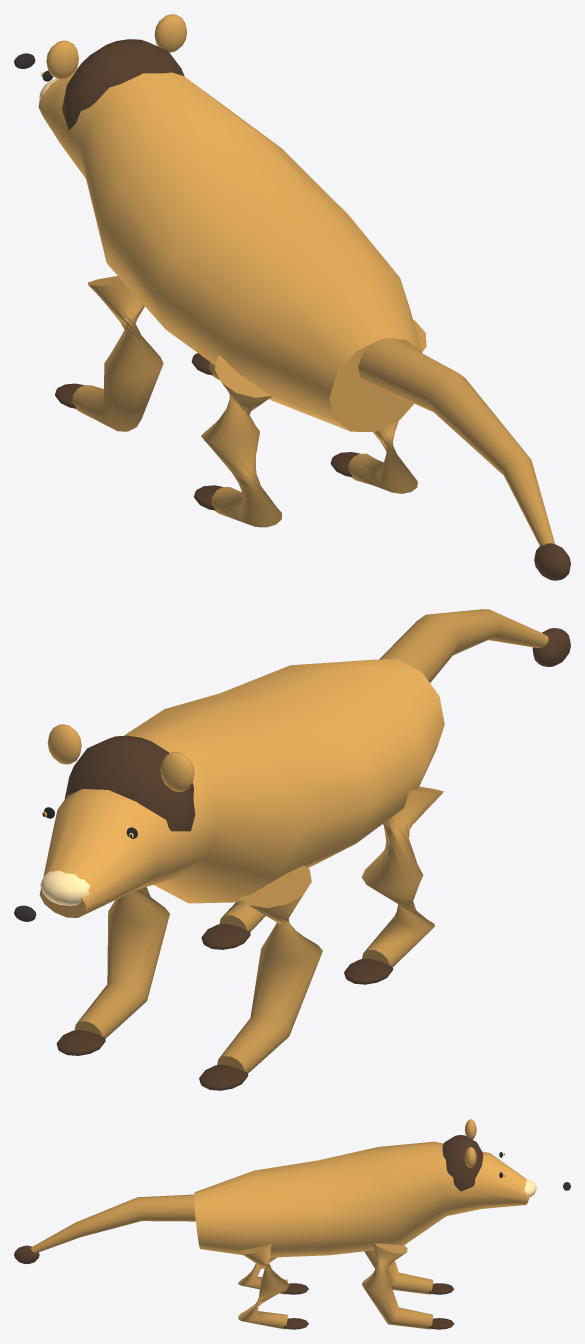
Rendered from lion_hero.glb.
3 views of the same model, one above another, from view 1: azimuth 30°, elevation 25°; view 2: azimuth 150°, elevation 25°; view 3: azimuth 270°, elevation 25° (orthographic). The views are drawn at different scales.
Parts seen in each view (by area): view 1: LionOrganicBody, Tail, Leg_LF, Leg_LH, ManeRuff, Leg_RH, TailTuft, RoundEar, RoundEar2; view 2: LionOrganicBody, Leg_LF, Leg_RF, Leg_LH, ManeRuff, Tail, Muzzle, RoundEar2, RoundEar, TailTuft, Paw_LH, Paw_LF (+3 smaller); view 3: LionOrganicBody, Tail, Leg_RF, Leg_RH, ManeRuff, Leg_LF, Leg_LH, TailTuft.
Boxes of the visible parts, <box> form: LionOrganicBody: <box>38,66,422,431</box>; Tail: <box>358,338,554,545</box>; Leg_LF: <box>72,276,163,431</box>; Leg_LH: <box>201,355,281,527</box>; ManeRuff: <box>62,39,184,130</box>; Leg_RH: <box>348,320,426,493</box>; TailTuft: <box>534,543,570,580</box>; RoundEar: <box>46,40,78,78</box>; RoundEar2: <box>154,14,187,52</box>; LionOrganicBody: <box>39,659,444,917</box>; Leg_LF: <box>217,865,322,1073</box>; Leg_RF: <box>74,887,169,1038</box>; Leg_LH: <box>361,786,443,966</box>; ManeRuff: <box>64,735,195,831</box>; Tail: <box>379,609,548,682</box>; Muzzle: <box>40,870,90,905</box>; RoundEar2: <box>47,724,81,764</box>; RoundEar: <box>160,752,194,791</box>; TailTuft: <box>532,628,570,666</box>; Paw_LH: <box>344,958,393,984</box>; Paw_LF: <box>199,1064,248,1090</box>; LionOrganicBody: <box>194,1141,530,1257</box>; Tail: <box>31,1194,195,1252</box>; Leg_RF: <box>361,1243,433,1329</box>; Leg_RH: <box>238,1243,289,1329</box>; ManeRuff: <box>442,1135,483,1191</box>; Leg_LF: <box>364,1250,433,1294</box>; Leg_LH: <box>238,1257,287,1294</box>; TailTuft: <box>14,1245,39,1264</box>.
Size of the model in its own units: 1.44 by 2.29 by 6.51.
